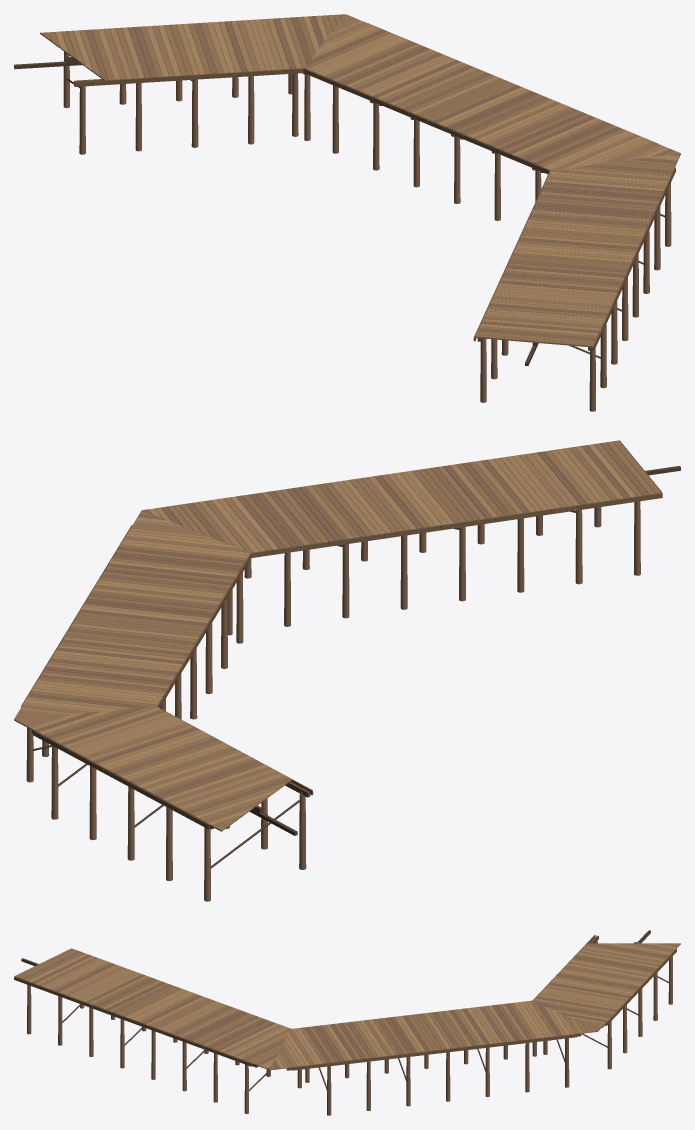
The model's file is P02-portable.glb.
3 views of the same model, one above another, from view 1: azimuth 30°, elevation 25°; view 2: azimuth 150°, elevation 25°; view 3: azimuth 270°, elevation 25° (orthographic). The views are drawn at different scales.
Bounding box in the file's own units: 21.42 × 3.74 × 42.14.
3 materials, 1 textured.
